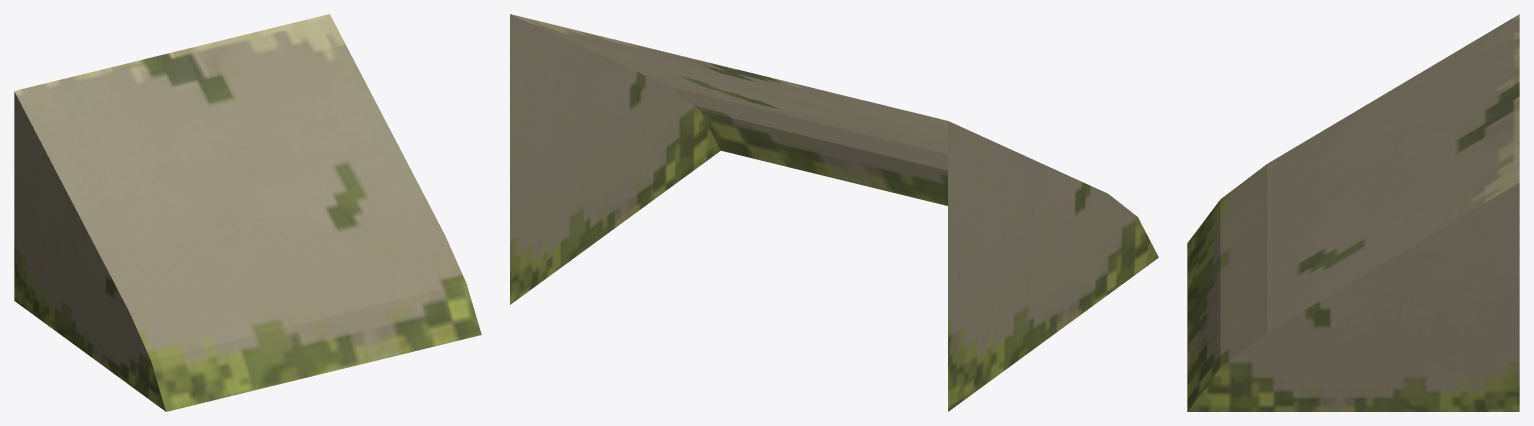
3 renders of one model, left to right at view 1: azimuth 30°, elevation 25°; view 2: azimuth 150°, elevation 25°; view 3: azimuth 270°, elevation 25°, orthographic. The views are drawn at different scales.
Visible parts, largest first — view 1: Cube_3; view 2: Cube_3; view 3: Cube_3.
Part boxes in pixels (x1,y1,x2,y2): Cube_3: [14, 14, 481, 411]; Cube_3: [510, 14, 1158, 411]; Cube_3: [1187, 14, 1519, 411].
Size of the model in its own units: 131 by 83.15 by 109.
